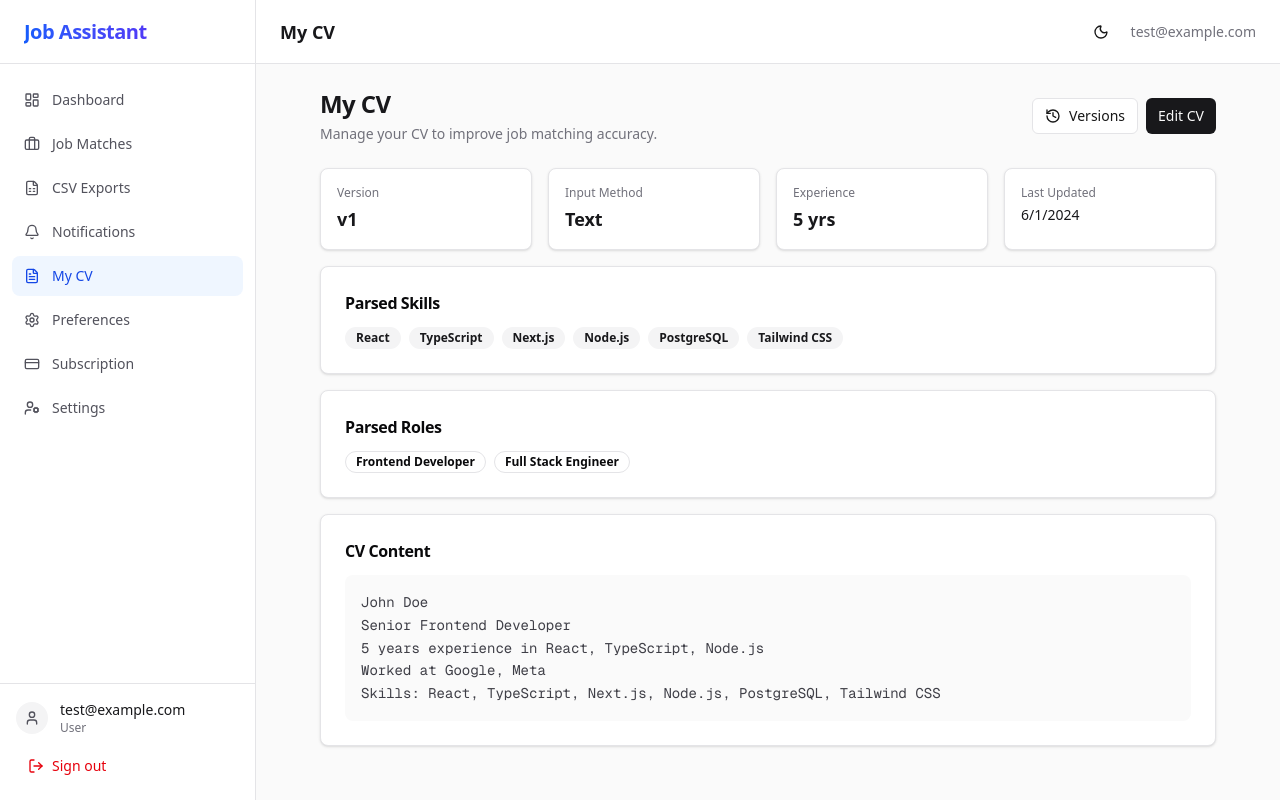
Scenario: CV page › 'Edit CV' switches to edit mode with textarea
Click the button "Edit CV" at (1181, 116), box [1146,98,1216,134]
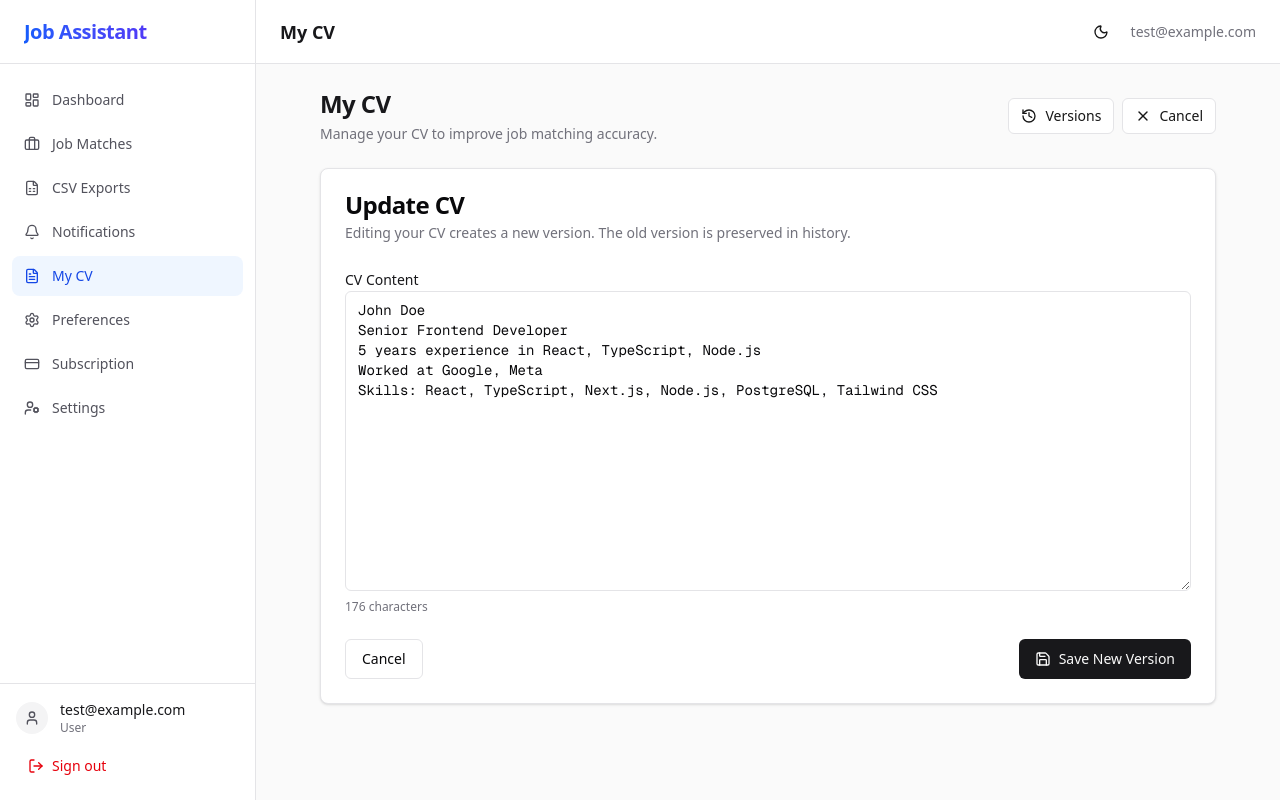
Expected: the text box with id "cvText" is shown, [345,291,1191,591]
